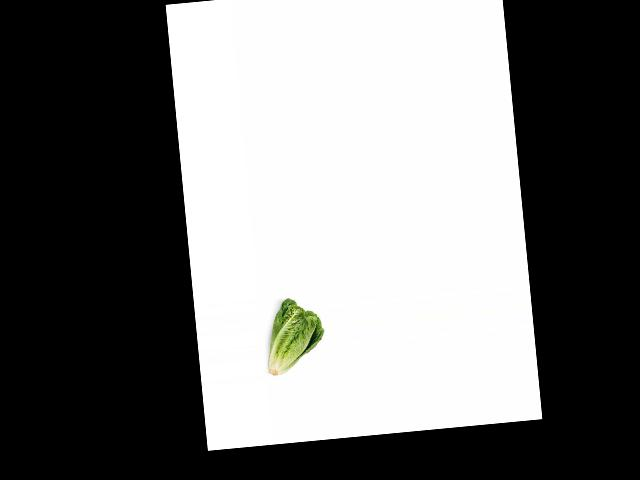lettuce: (259, 295, 327, 381)
